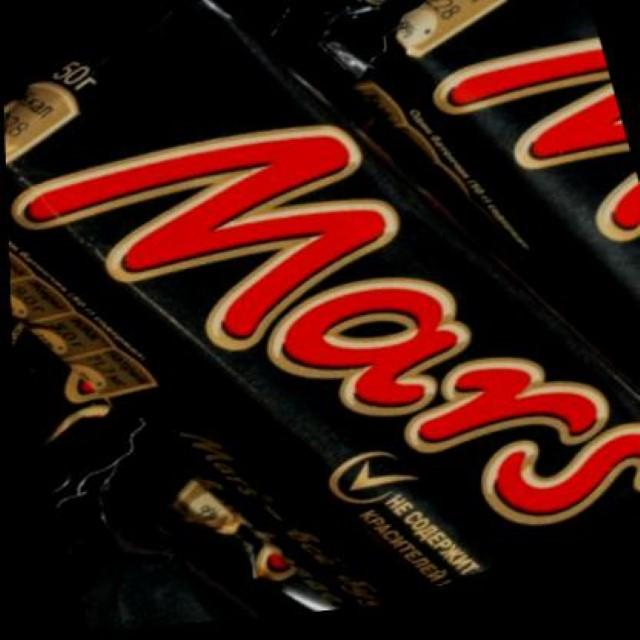mars_chocolate: (78, 38, 630, 605)
